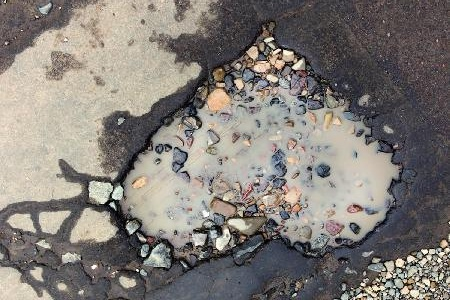pothole: (106, 20, 406, 273)
